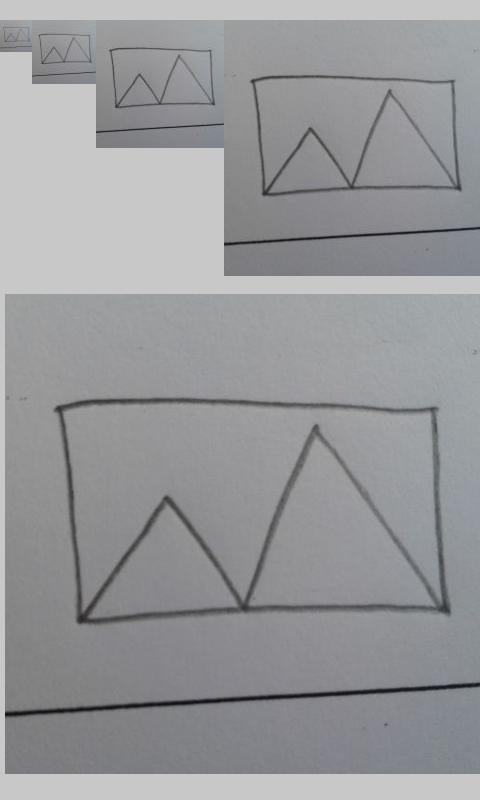image_view: (58, 396, 451, 631), (251, 73, 466, 198), (110, 46, 216, 108), (38, 32, 93, 65), (2, 26, 30, 43)
